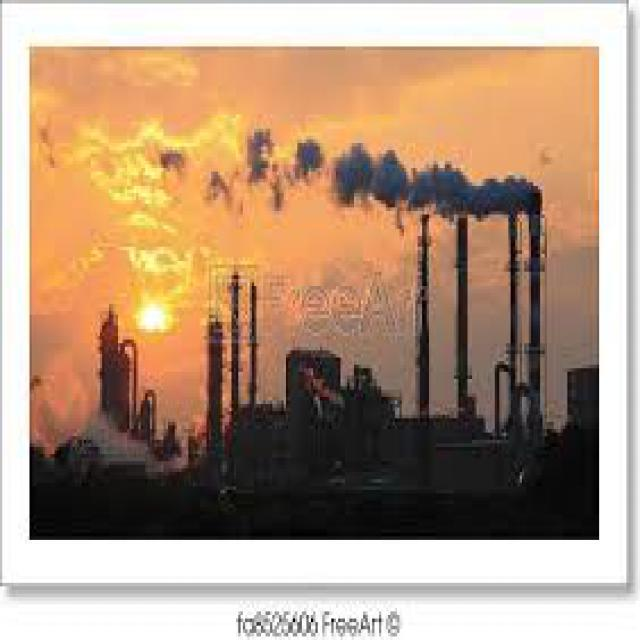smoke: (234, 114, 567, 240)
